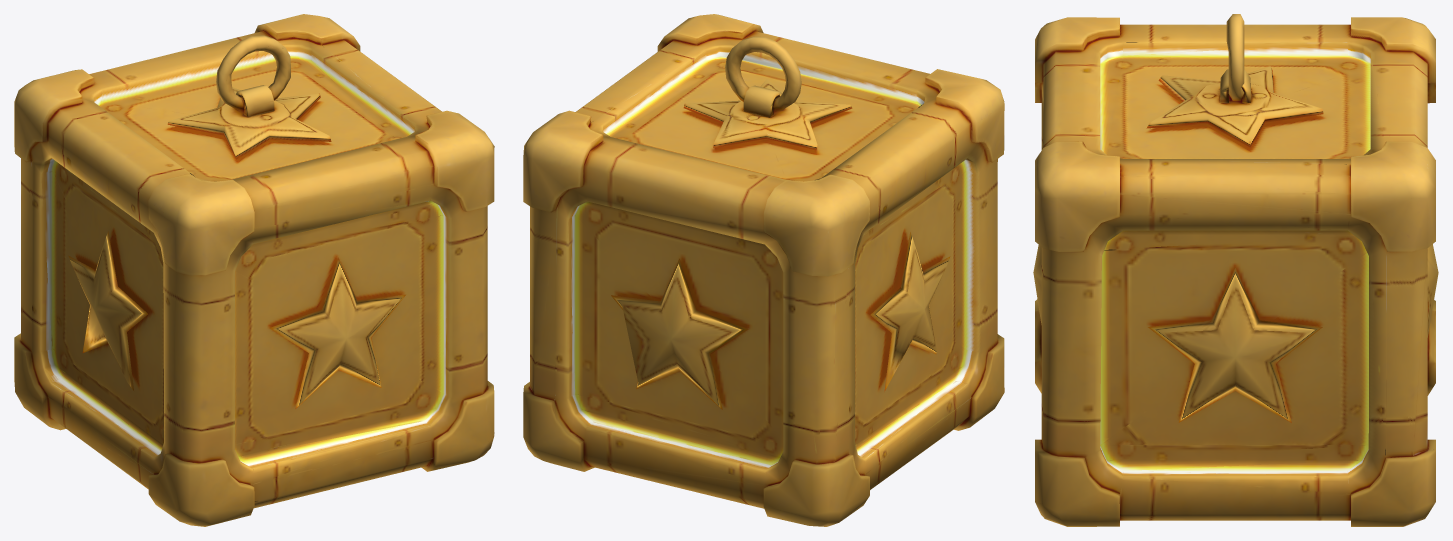
File: pickup_golden.glb
The picture shows the model from 3 angles, left to right: view 1: azimuth 30°, elevation 25°; view 2: azimuth 150°, elevation 25°; view 3: azimuth 270°, elevation 25°; orthographic projection. The views are drawn at different scales.
Parts seen in each view (by area): view 1: geometry_0; view 2: geometry_0; view 3: geometry_0.
Part boxes in pixels (left/top/right/bottom): geometry_0: left=14, top=14, right=494, bottom=526; geometry_0: left=523, top=14, right=1004, bottom=526; geometry_0: left=1033, top=14, right=1438, bottom=526.
Bounding box in the file's own units: 0.8032 × 0.9517 × 0.8052.
1 material, 1 textured.
